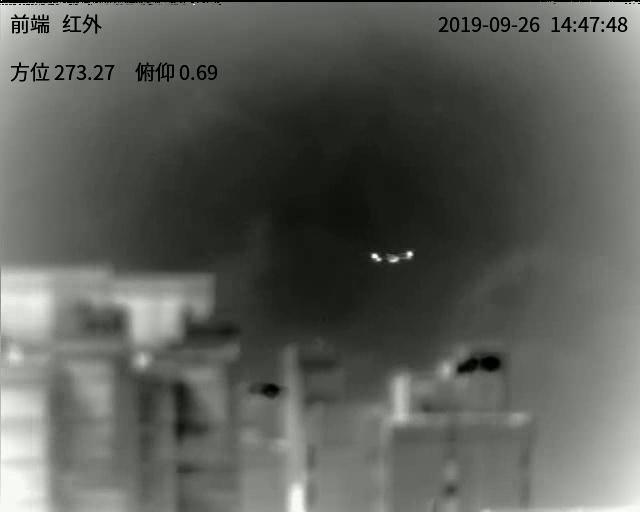DRONE: (368, 248, 415, 264)
